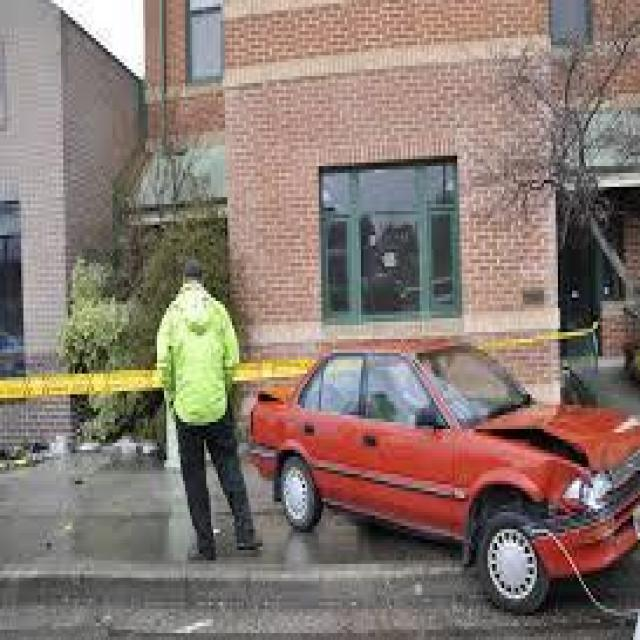damaged: (476, 429, 638, 550)
